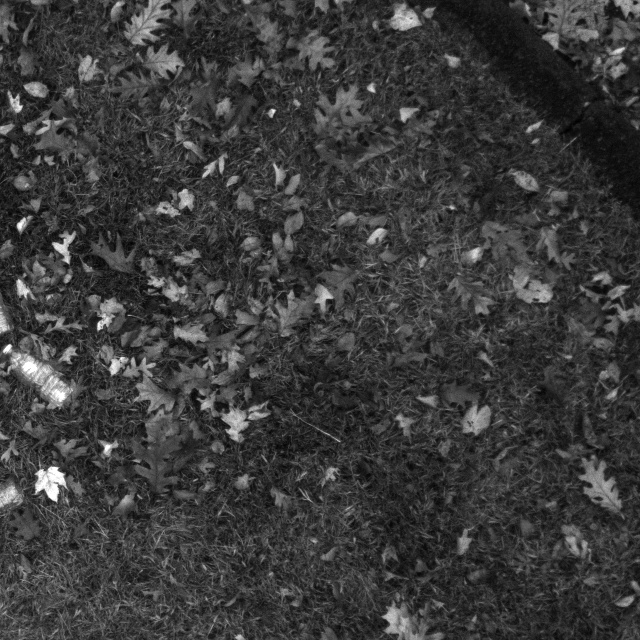bottle: (1, 335, 74, 409)
